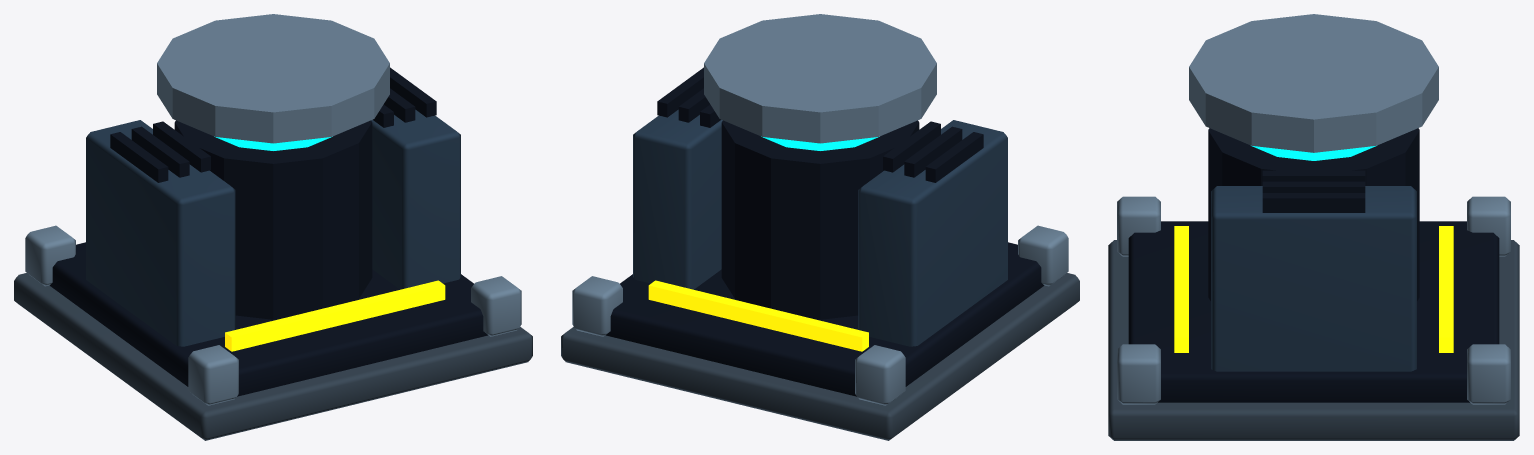
File: generator.glb
The picture shows the model from 3 angles, left to right: view 1: azimuth 30°, elevation 25°; view 2: azimuth 150°, elevation 25°; view 3: azimuth 270°, elevation 25°; orthographic projection. The views are drawn at different scales.
Visible parts, largest first — view 1: Flux vessel, Reactor cap, Cooling pack, Foundation, Undercarriage, Cooling pack.001, Copper bus.001, Corner lock.001, Corner lock.003, Corner lock, Cooling fin, Cooling fin.001 (+4 smaller); view 2: Flux vessel, Reactor cap, Cooling pack, Foundation, Undercarriage, Cooling pack.001, Copper bus, Corner lock, Corner lock.002, Corner lock.001, Cooling fin, Cooling fin.001 (+4 smaller); view 3: Cooling pack.001, Undercarriage, Reactor cap, Foundation, Flux vessel, Corner lock.002, Corner lock.003, Cooling fin.005, Copper bus, Copper bus.001, Corner lock, Corner lock.001 (+3 smaller).
Boxes of the visible parts, x1=… form: Flux vessel: x1=174, y1=120, x2=372, y2=319; Reactor cap: x1=157, y1=14, x2=389, y2=143; Cooling pack: x1=86, y1=120, x2=235, y2=346; Foundation: x1=14, y1=273, x2=532, y2=440; Undercarriage: x1=49, y1=242, x2=487, y2=396; Cooling pack.001: x1=371, y1=109, x2=460, y2=289; Copper bus.001: x1=225, y1=280, x2=445, y2=351; Corner lock.001: x1=188, y1=345, x2=238, y2=405; Corner lock.003: x1=471, y1=276, x2=521, y2=336; Corner lock: x1=25, y1=225, x2=75, y2=286; Cooling fin: x1=110, y1=132, x2=168, y2=182; Cooling fin.001: x1=131, y1=126, x2=189, y2=177; Flux vessel: x1=721, y1=120, x2=919, y2=319; Reactor cap: x1=704, y1=14, x2=936, y2=143; Cooling pack: x1=858, y1=120, x2=1007, y2=346; Foundation: x1=561, y1=273, x2=1079, y2=440; Undercarriage: x1=606, y1=242, x2=1044, y2=396; Cooling pack.001: x1=633, y1=109, x2=722, y2=289; Copper bus: x1=648, y1=280, x2=868, y2=351; Corner lock: x1=855, y1=345, x2=905, y2=405; Corner lock.002: x1=572, y1=276, x2=622, y2=336; Corner lock.001: x1=1018, y1=225, x2=1068, y2=286; Cooling fin: x1=925, y1=132, x2=983, y2=182; Cooling fin.001: x1=904, y1=126, x2=962, y2=177; Cooling pack.001: x1=1211, y1=186, x2=1416, y2=371; Undercarriage: x1=1128, y1=221, x2=1499, y2=402; Reactor cap: x1=1189, y1=14, x2=1438, y2=152; Foundation: x1=1108, y1=240, x2=1519, y2=440; Flux vessel: x1=1208, y1=128, x2=1419, y2=300; Corner lock.002: x1=1467, y1=344, x2=1510, y2=404; Corner lock.003: x1=1117, y1=344, x2=1160, y2=404; Cooling fin.005: x1=1262, y1=193, x2=1365, y2=212; Copper bus: x1=1439, y1=226, x2=1453, y2=352; Copper bus.001: x1=1174, y1=226, x2=1188, y2=352; Corner lock: x1=1467, y1=196, x2=1510, y2=256; Corner lock.001: x1=1117, y1=196, x2=1160, y2=256.
Size of the model in its own units: 2.8 by 2.17 by 2.8.
